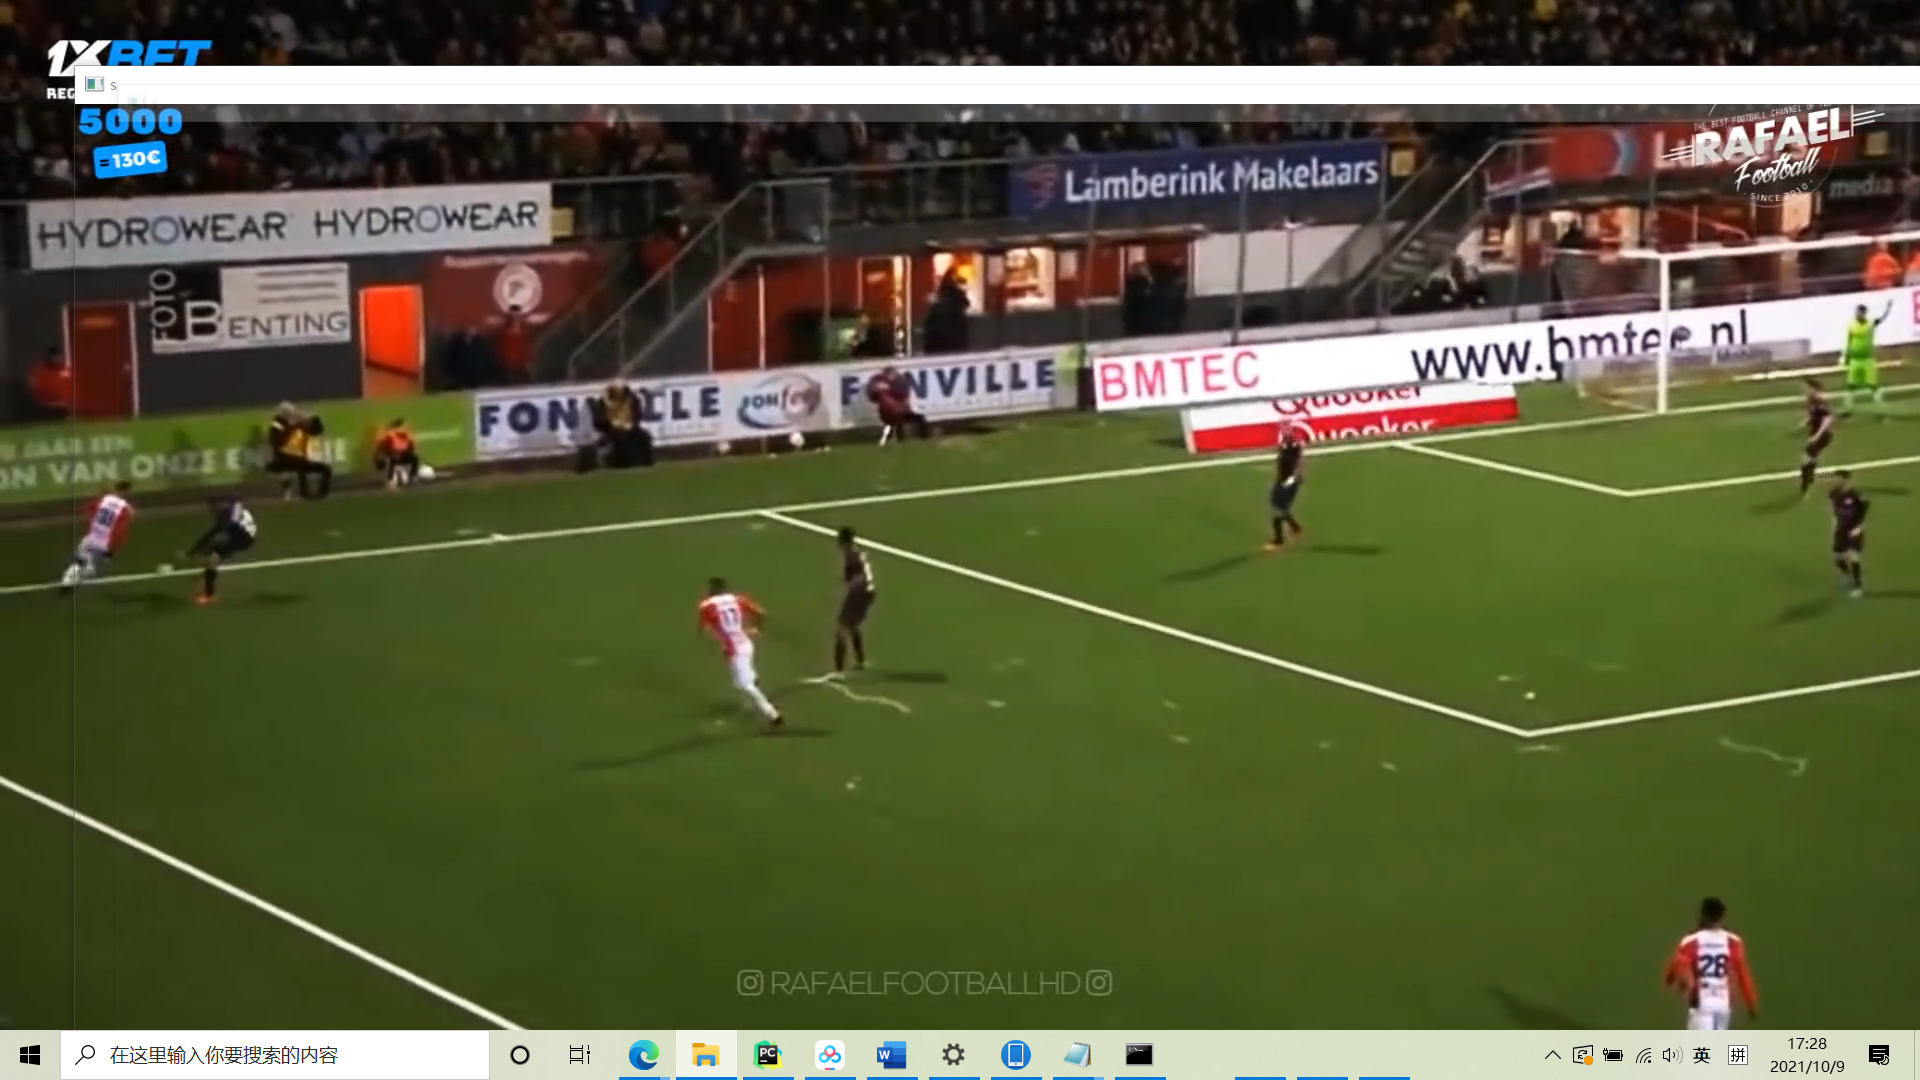ft: (389, 465, 411, 489), (418, 460, 436, 488), (152, 558, 173, 582)
